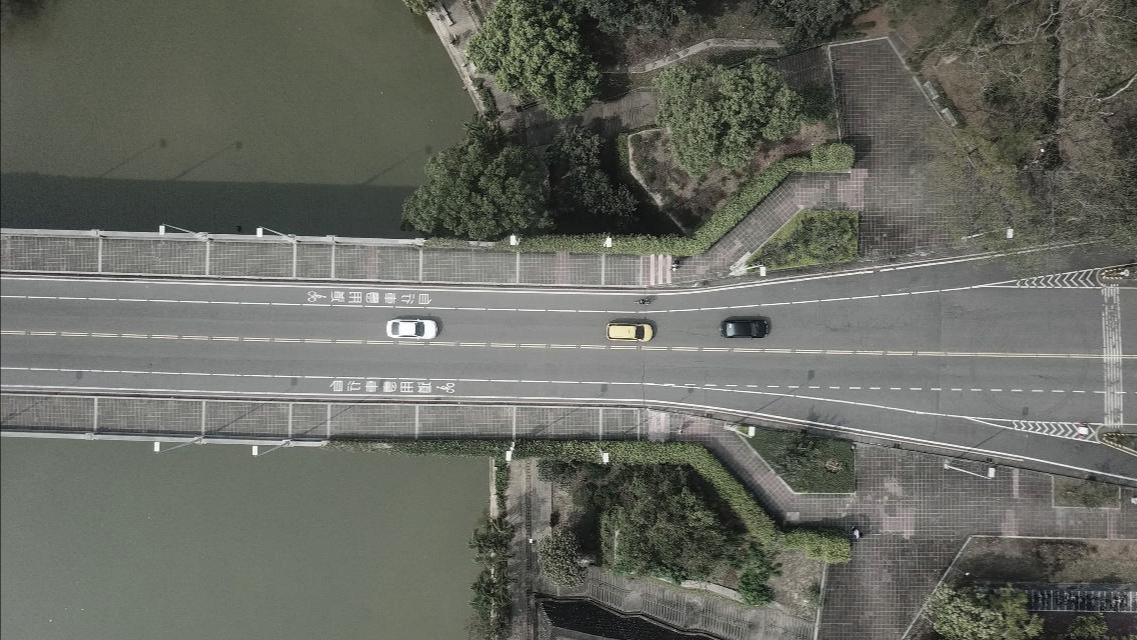vehicle: (386, 317, 437, 340), (720, 317, 770, 340), (606, 321, 654, 343)
